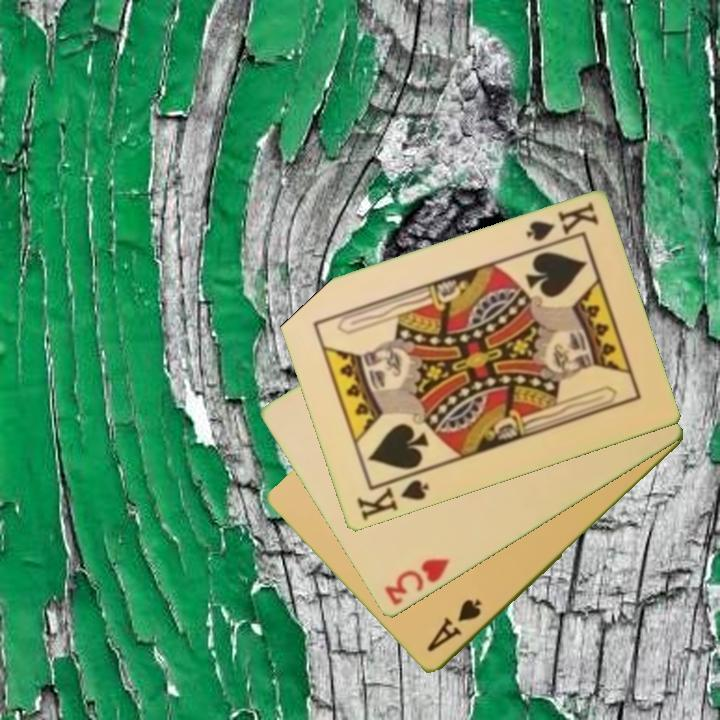3h: (380, 555, 453, 609)
As: (423, 596, 485, 656)
Ks: (353, 476, 432, 525), (522, 198, 602, 245)
